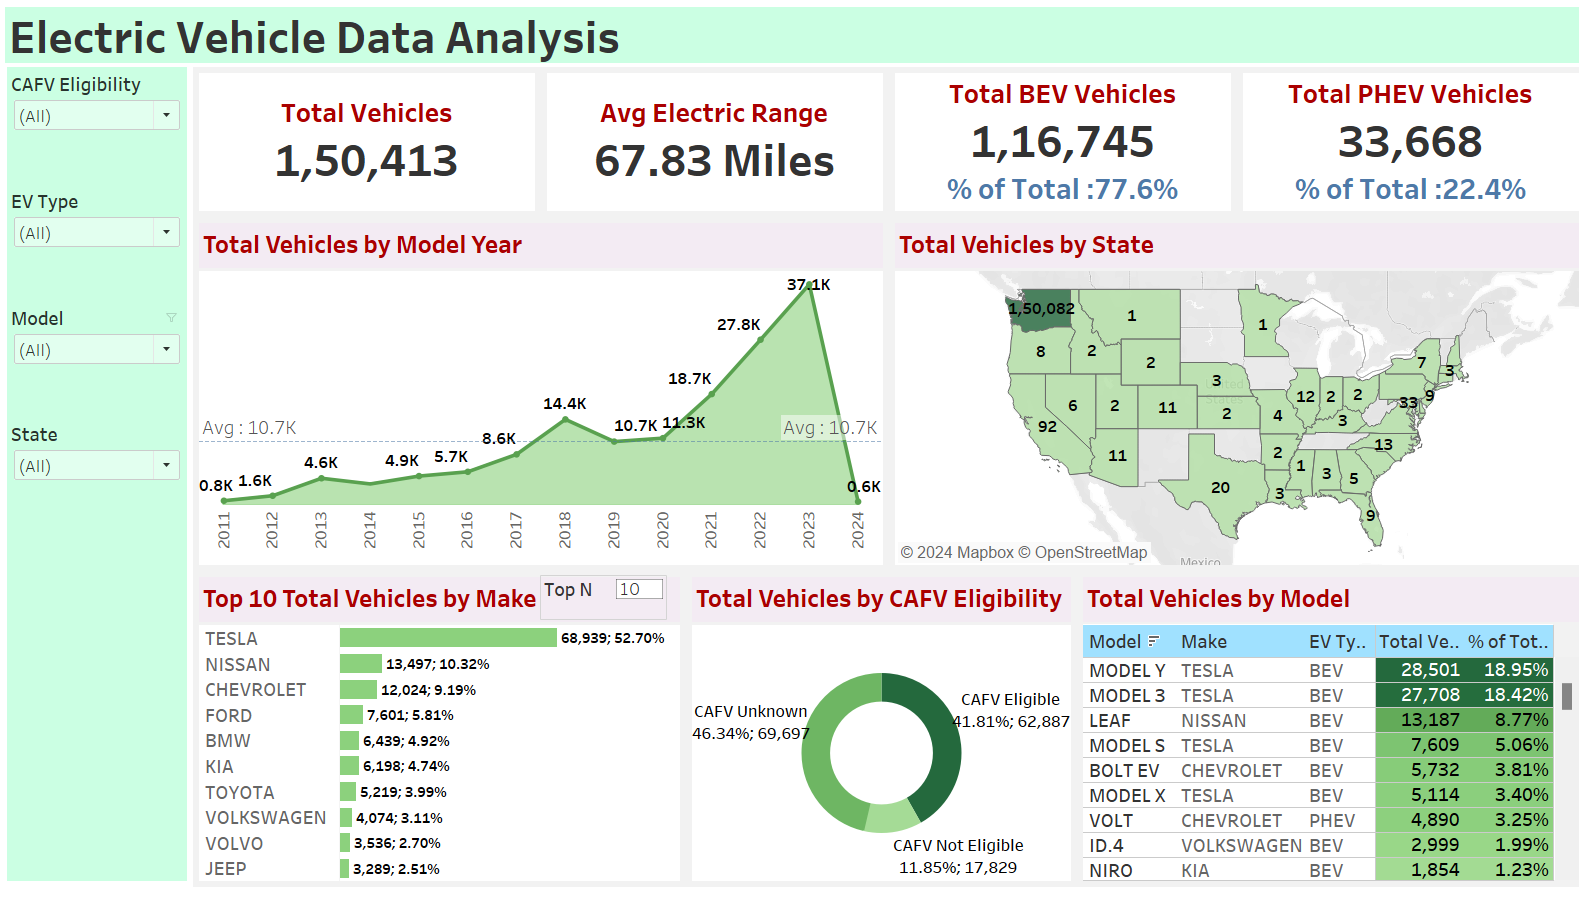

Layout of this report page (visuals, bound fields, positions):
{"tool":"tableau","page":{"name":"Dashboard 1","canvas":[1600,900],"ordinal":0},"visuals":[{"type":"title","box":[8,8,1584,64]},{"type":"filter","title":"Total Vehicles by State","param":"[federated.0k1ohr719izade10qwipu1hfkkt7].[none:Clean Alternative Fuel Vehicle (C","box":[14,72,180,117]},{"type":"worksheet","title":"Total Vehicles","mark":"Automatic","box":[200,72,348,150]},{"type":"worksheet","title":"Avg Electric range","mark":"Automatic","box":[548,72,348,150]},{"type":"worksheet","title":"Total BEV Vehicles","mark":"Automatic","box":[896,72,348,150]},{"type":"worksheet","title":"Total PHEV Vehicles","mark":"Automatic","box":[1244,72,348,150]},{"type":"filter","title":"Total Vehicles by State","param":"[federated.0k1ohr719izade10qwipu1hfkkt7].[none:Electric Vehicle Type:nk]","box":[14,189,180,117]},{"type":"worksheet","title":"Total Vehicles by Model Year","mark":"Area","rows":["Calculation_475129788979437568","Calculation_475129788979437568"],"cols":["Model Year"],"box":[200,222,696,354]},{"type":"worksheet","title":"Total Vehicles by State","mark":"Multipolygon","box":[896,222,696,354]},{"type":"filter","title":"Total Vehicles by State","param":"[federated.0k1ohr719izade10qwipu1hfkkt7].[none:Model:nk]","box":[14,306,180,116]},{"type":"filter","title":"Total Vehicles by State","param":"[federated.0k1ohr719izade10qwipu1hfkkt7].[none:State:nk]","box":[14,422,180,116]},{"type":"blank","box":[14,538,180,116]},{"type":"worksheet","title":"Top 10 Total Vehicles by Make","mark":"Automatic","rows":["Make"],"cols":["Calculation_475129788979437568"],"box":[200,576,493,316]},{"type":"worksheet","title":"Total Vehicles by CAFV Eligibility ","mark":"Pie","rows":["Calculation_475129788999184393","Calculation_475129788999249931"],"box":[693,576,391,316]},{"type":"worksheet","title":"Total Vehicles by Model","mark":"Square","rows":["Model","Make","Electric Vehicle Type"],"box":[1084,576,508,316]},{"type":"parameter","param":"[Parameters].[Parameter 1]","box":[547,580,127,45]},{"type":"blank","box":[14,654,180,116]},{"type":"blank","box":[14,770,180,116]}]}

Visuals, with their boxes in screenshot pixels (x1, y1, x2, y2), scaled from the page's 1600x900 canvas onto the 1579x901 screenshot:
title: [x1=8, y1=8, x2=1571, y2=72]
"Total Vehicles by State" filter: [x1=14, y1=72, x2=191, y2=189]
"Total Vehicles" worksheet: [x1=197, y1=72, x2=541, y2=222]
"Avg Electric range" worksheet: [x1=541, y1=72, x2=884, y2=222]
"Total BEV Vehicles" worksheet: [x1=884, y1=72, x2=1228, y2=222]
"Total PHEV Vehicles" worksheet: [x1=1228, y1=72, x2=1571, y2=222]
"Total Vehicles by State" filter: [x1=14, y1=189, x2=191, y2=306]
"Total Vehicles by Model Year" worksheet (Area marks): [x1=197, y1=222, x2=884, y2=577]
"Total Vehicles by State" worksheet (Multipolygon marks): [x1=884, y1=222, x2=1571, y2=577]
"Total Vehicles by State" filter: [x1=14, y1=306, x2=191, y2=422]
"Total Vehicles by State" filter: [x1=14, y1=422, x2=191, y2=539]
blank: [x1=14, y1=539, x2=191, y2=655]
"Top 10 Total Vehicles by Make" worksheet: [x1=197, y1=577, x2=684, y2=893]
"Total Vehicles by CAFV Eligibility " worksheet (Pie marks): [x1=684, y1=577, x2=1070, y2=893]
"Total Vehicles by Model" worksheet (Square marks): [x1=1070, y1=577, x2=1571, y2=893]
parameter: [x1=540, y1=581, x2=665, y2=626]
blank: [x1=14, y1=655, x2=191, y2=771]
blank: [x1=14, y1=771, x2=191, y2=887]
